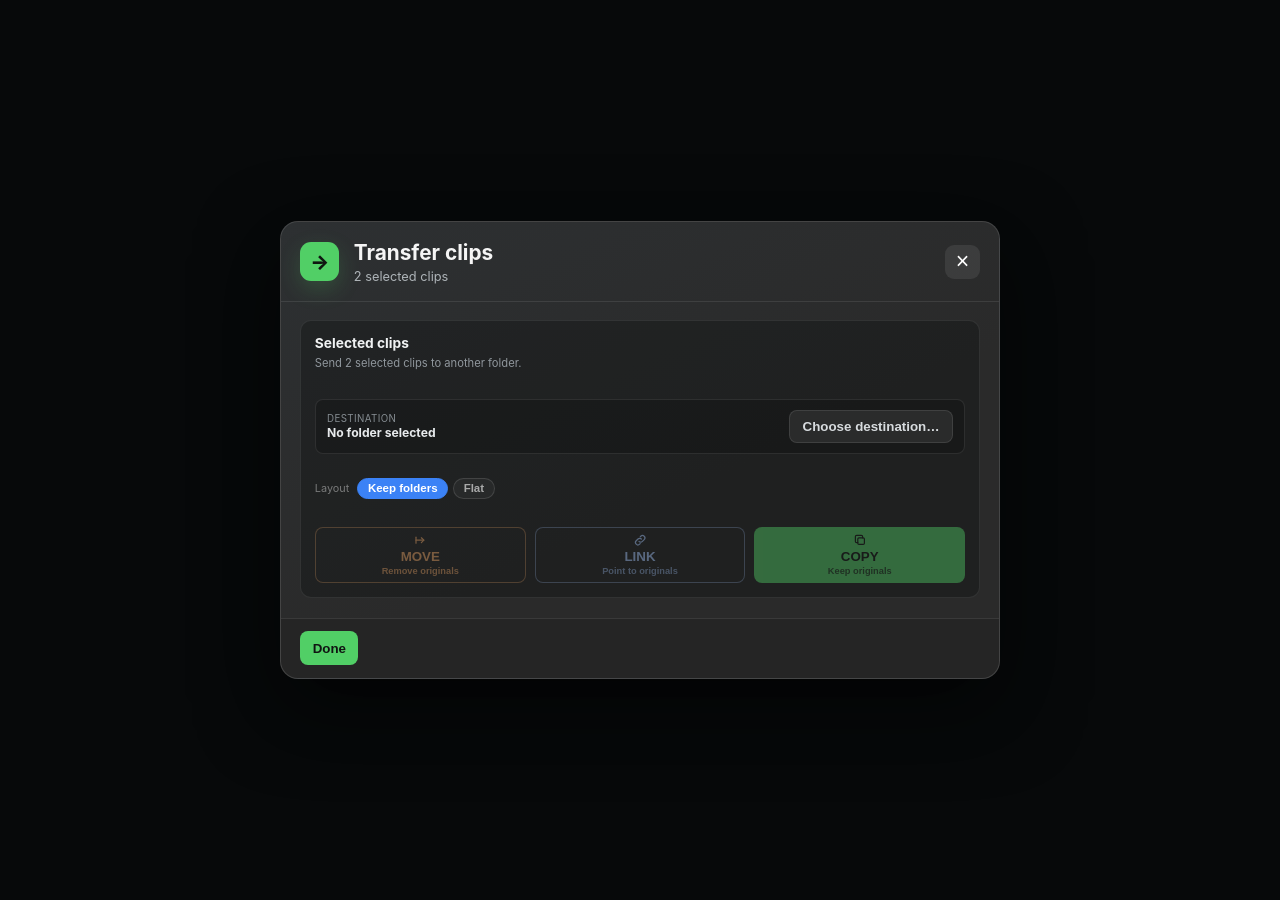
Test: TransferSelectionDialog › runs an explicit copy through the shared transfer panel
Click the button "Choose destination…" at (871, 426), box [789,410,953,443]
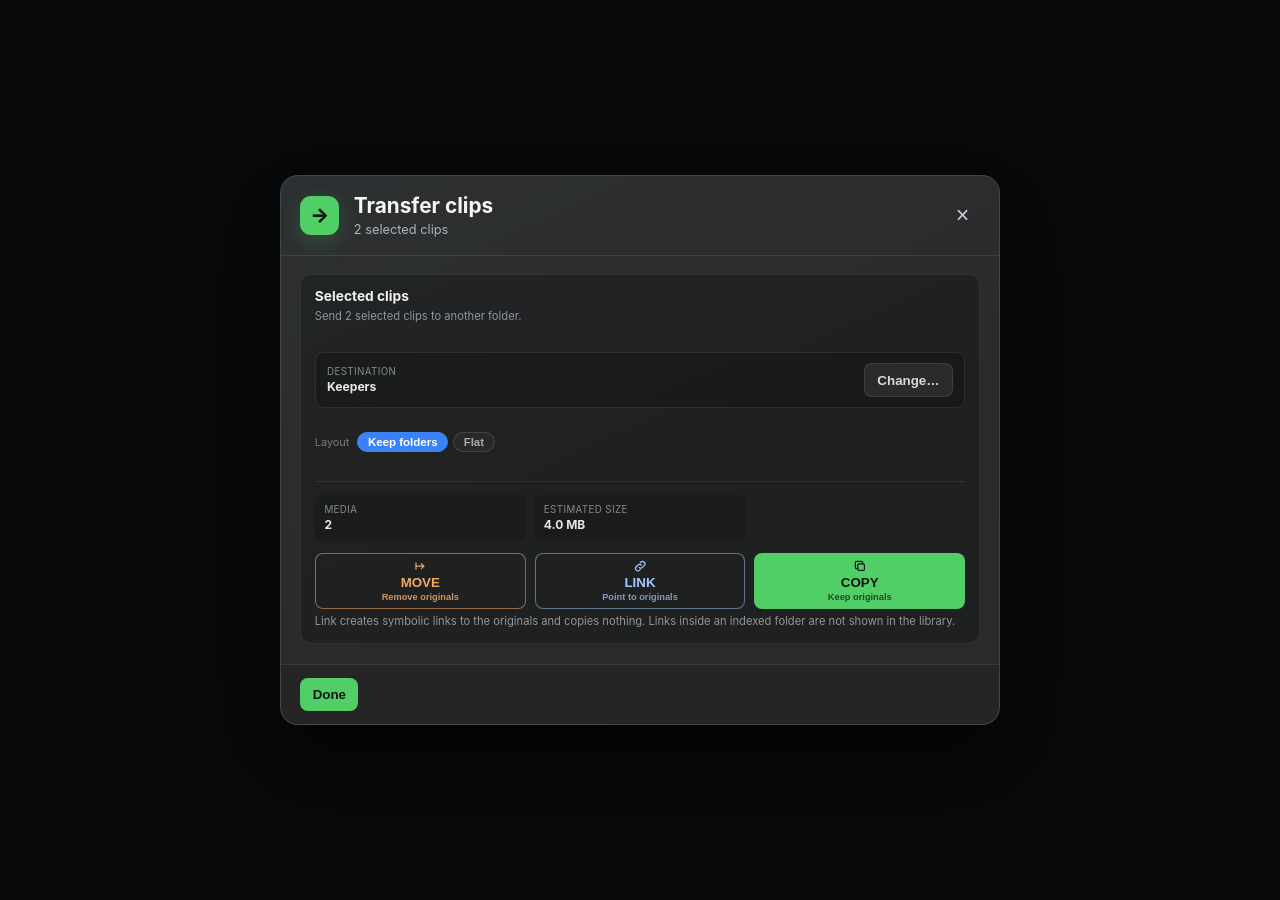
Click the button with aria-label "Copy 2 files; keep originals" at (860, 581), box [754,553,965,609]
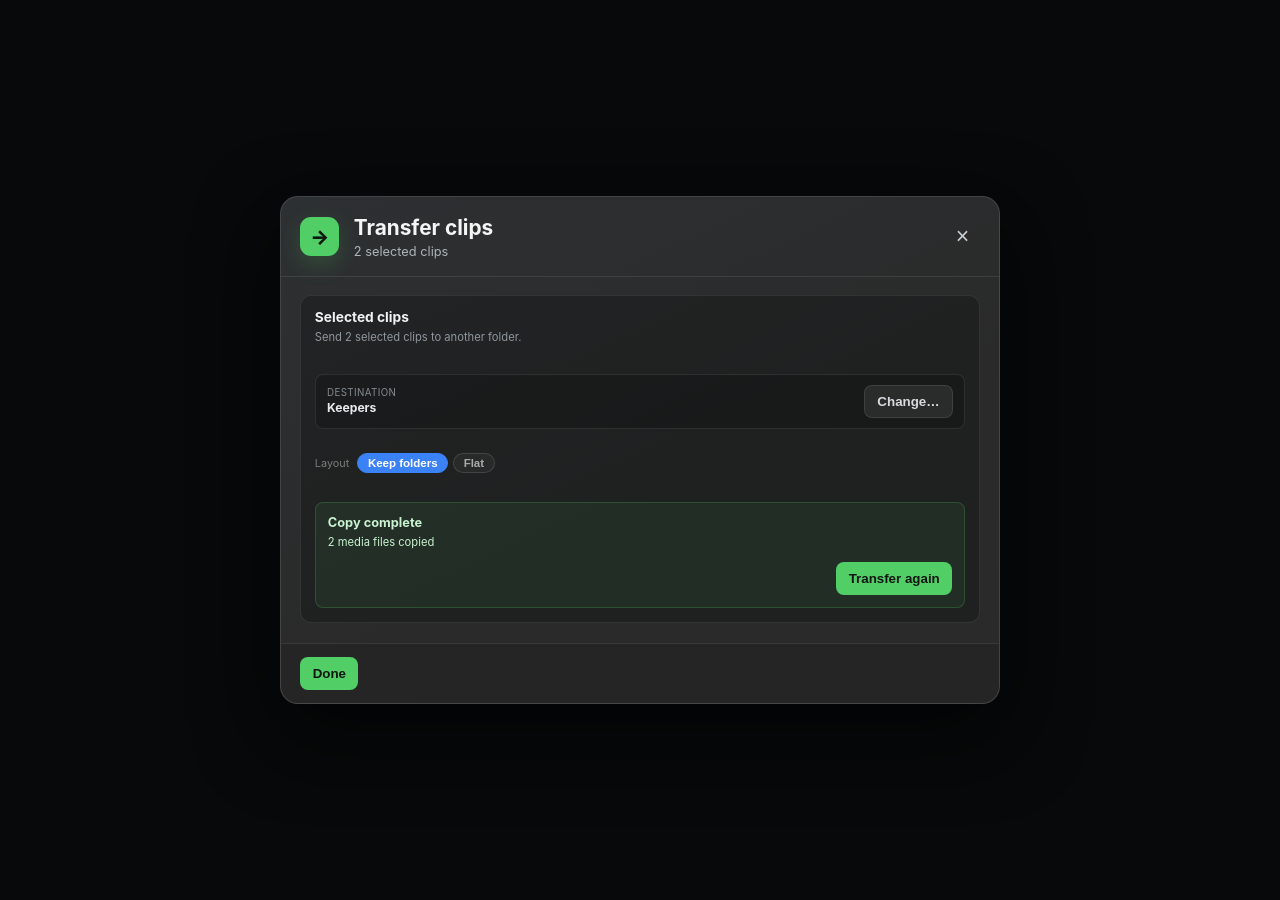
Check: the text "Copy complete" is shown, box [328,515,422,530]
